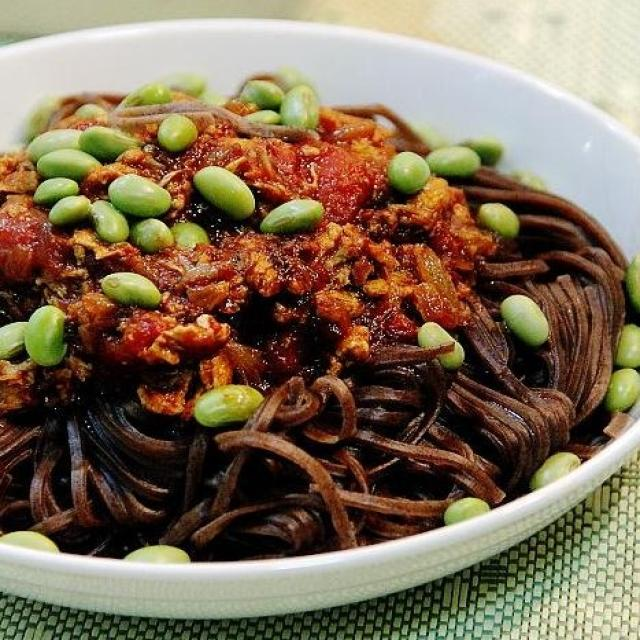面条主食: (0, 18, 636, 586)
